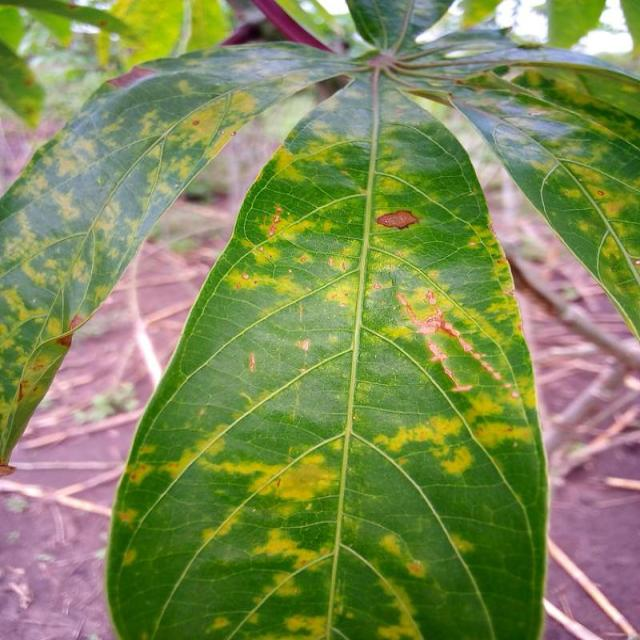cassava leaf: (104, 67, 551, 638)
